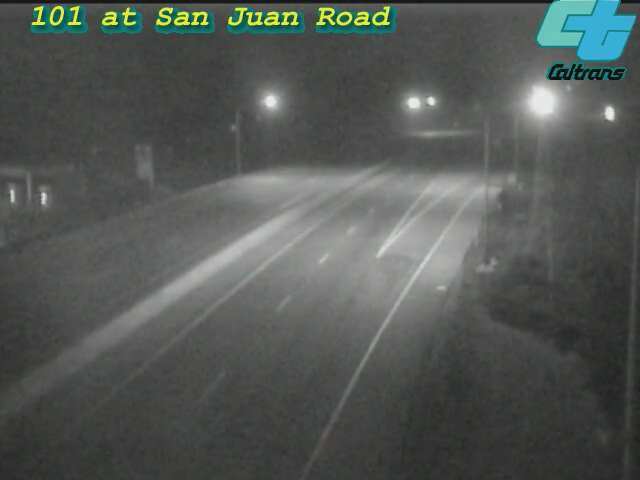vehicle: (584, 89, 634, 139), (517, 80, 567, 130)
